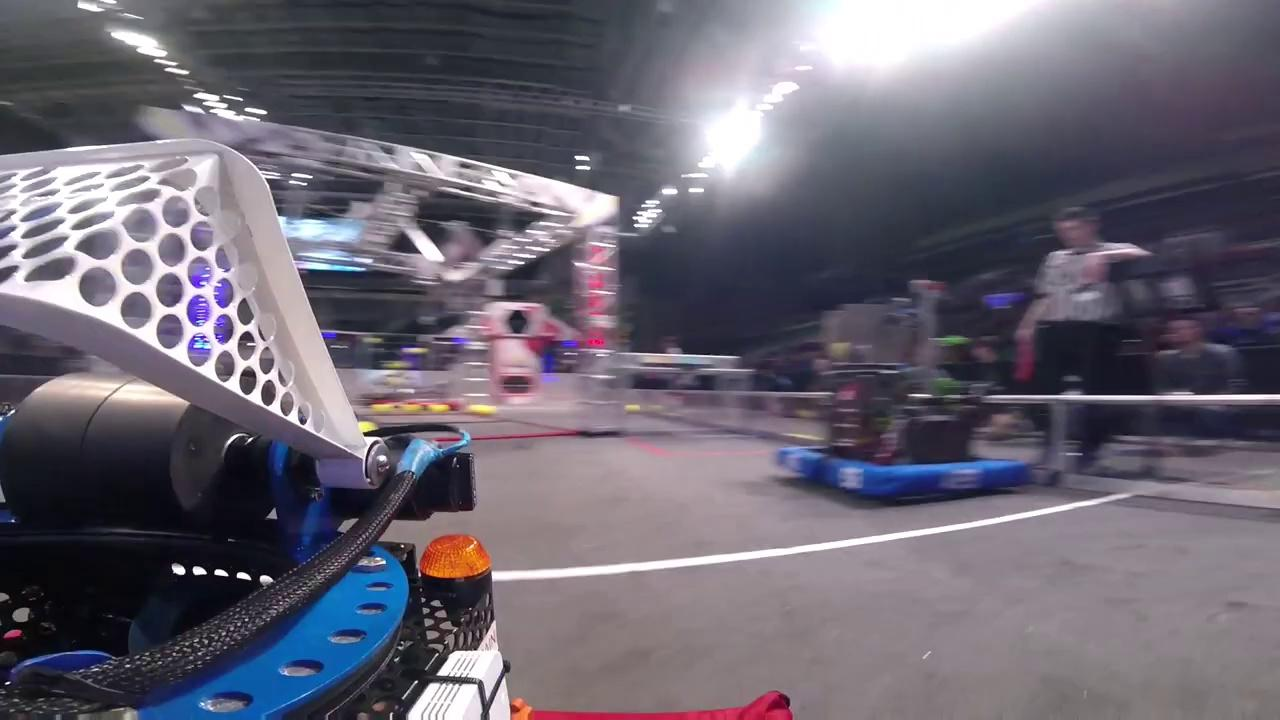robot: (773, 278, 1036, 505)
